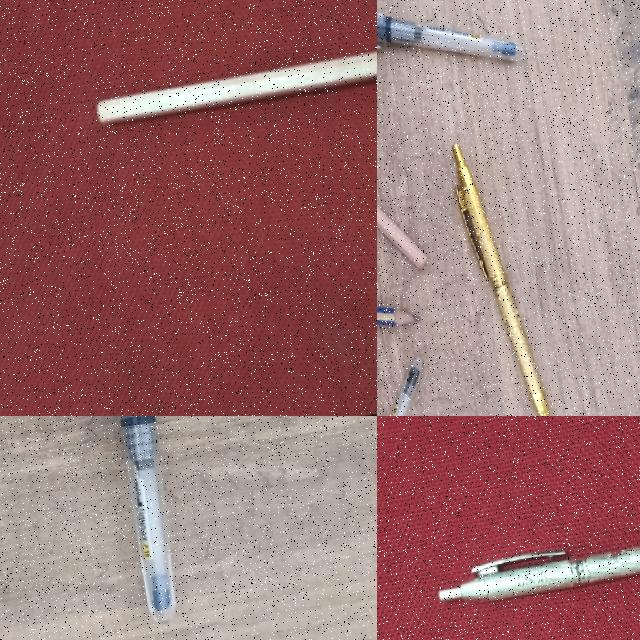pen: (377, 0, 525, 92), (119, 416, 175, 622)
pencil: (98, 53, 376, 123), (377, 206, 425, 266)
signature pen: (447, 135, 553, 416), (439, 548, 639, 601)
